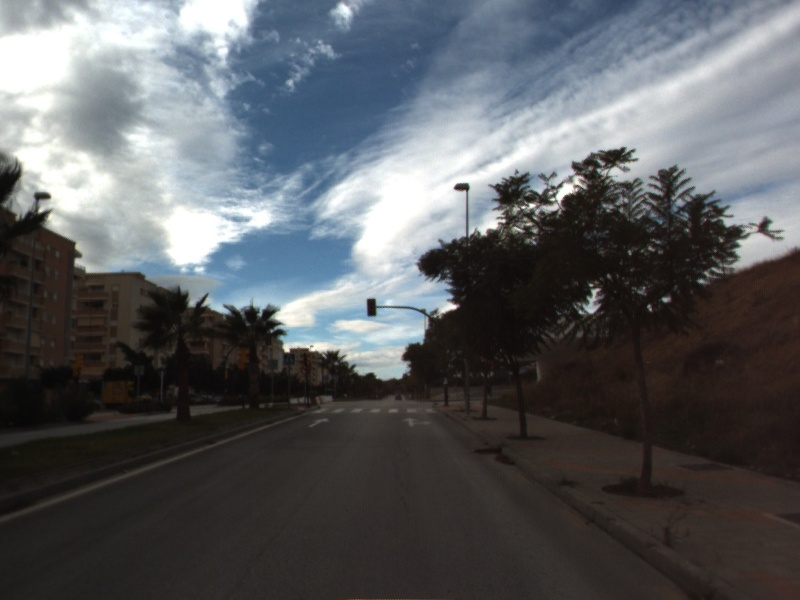STRAIGHT: (306, 416, 331, 430)
STRAIGHT_RIGHT: (400, 415, 433, 429)
